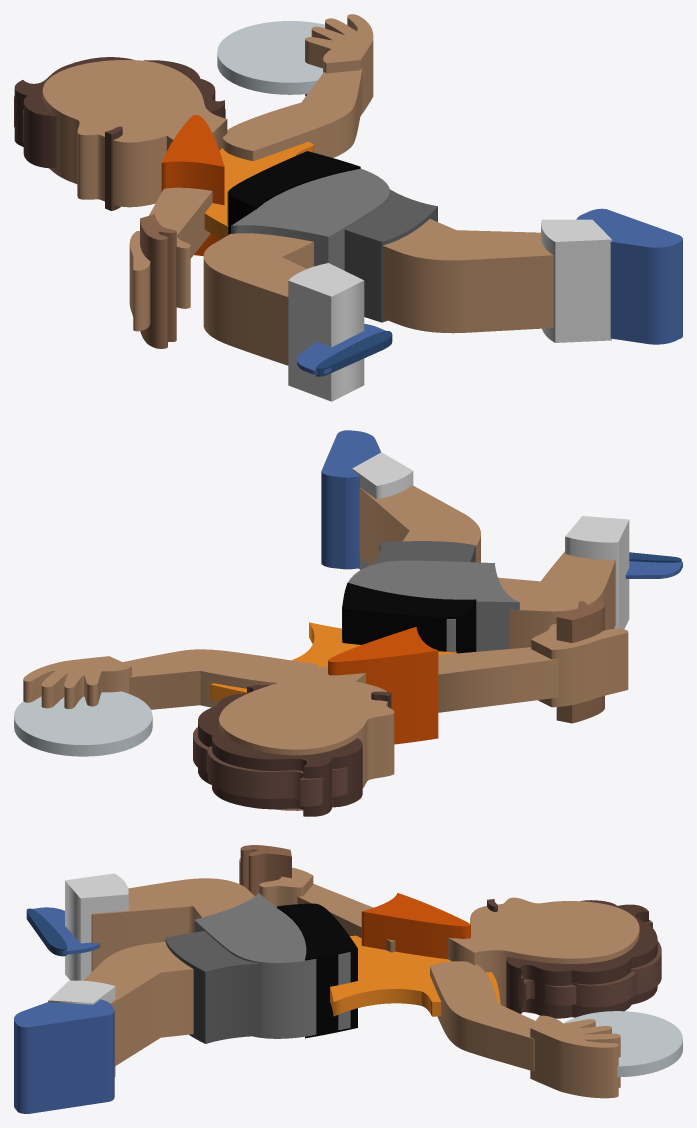
File: emoji_u1f93e_1f3fd.glb
3 views of the same model, one above another, from view 1: azimuth 30°, elevation 25°; view 2: azimuth 150°, elevation 25°; view 3: azimuth 270°, elevation 25° (orthographic). The views are drawn at different scales.
Visible parts, largest first — view 1: emoji_u1f93e_1f3fd; view 2: emoji_u1f93e_1f3fd; view 3: emoji_u1f93e_1f3fd.
Part boxes in pixels (<box>): emoji_u1f93e_1f3fd: <box>14,14,682,401</box>; emoji_u1f93e_1f3fd: <box>14,430,682,816</box>; emoji_u1f93e_1f3fd: <box>14,845,682,1113</box>.
Bounding box in the file's own units: 0.0224 × 0.0054 × 0.0336.
